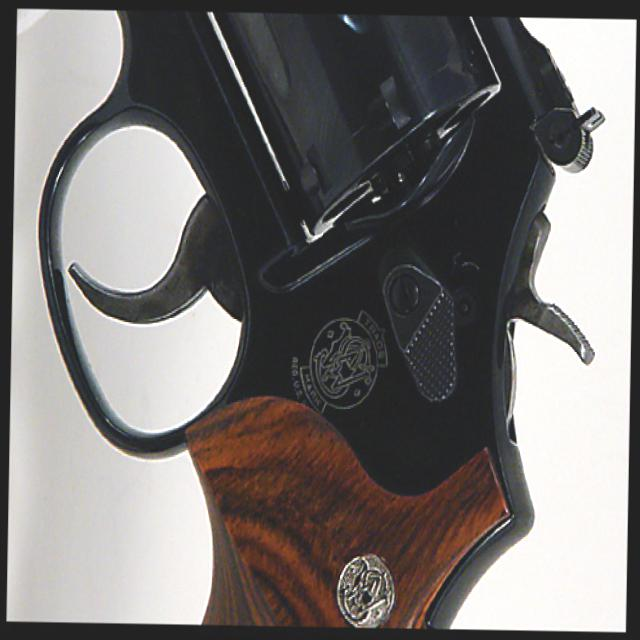handgun: (28, 7, 606, 633)
